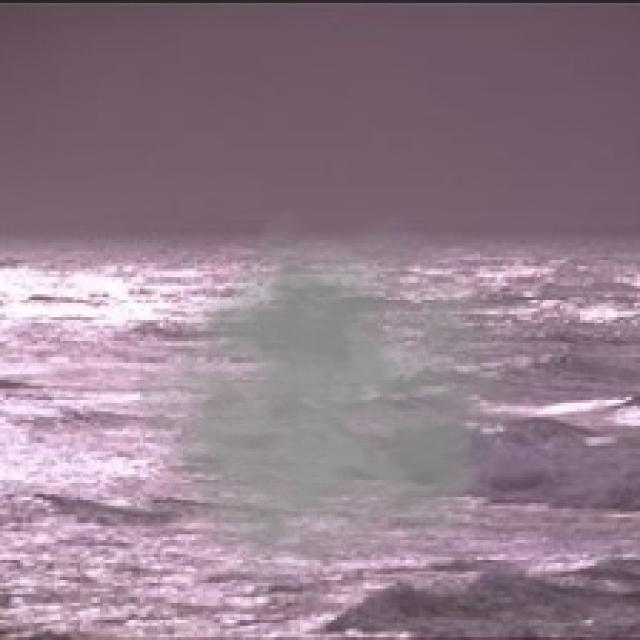smoke: (134, 206, 557, 583)
